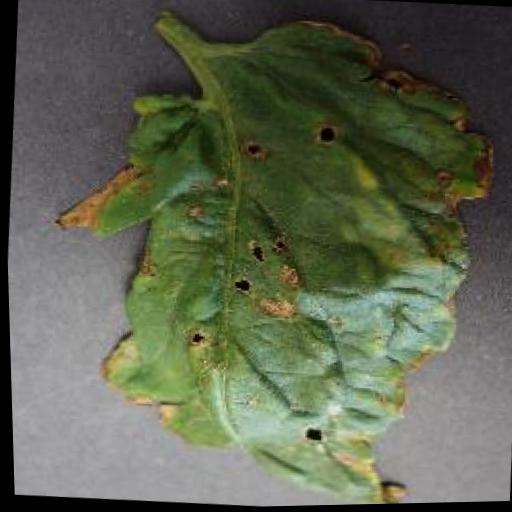Bacterial Spot: (25, 0, 512, 512)
